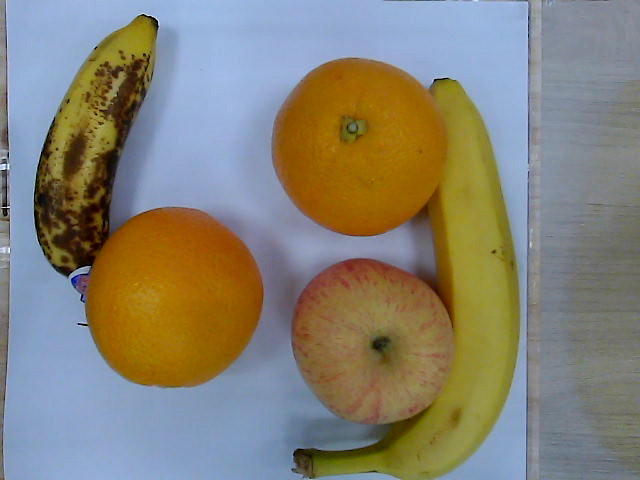fresh_apple: (294, 259, 450, 423)
fresh_banana: (378, 78, 520, 480)
fresh_orange: (84, 208, 265, 387), (271, 58, 447, 238)
rotten_banana: (36, 12, 159, 292)
